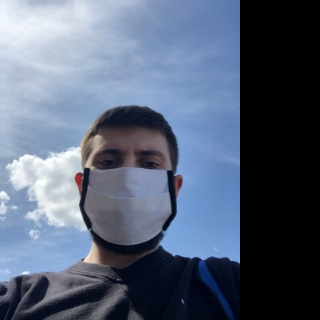with_mask: (80, 143, 176, 254)
